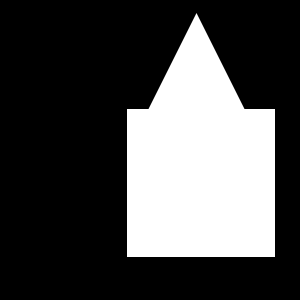circle: (127, 109, 275, 257)
triangle: (143, 13, 250, 120)
